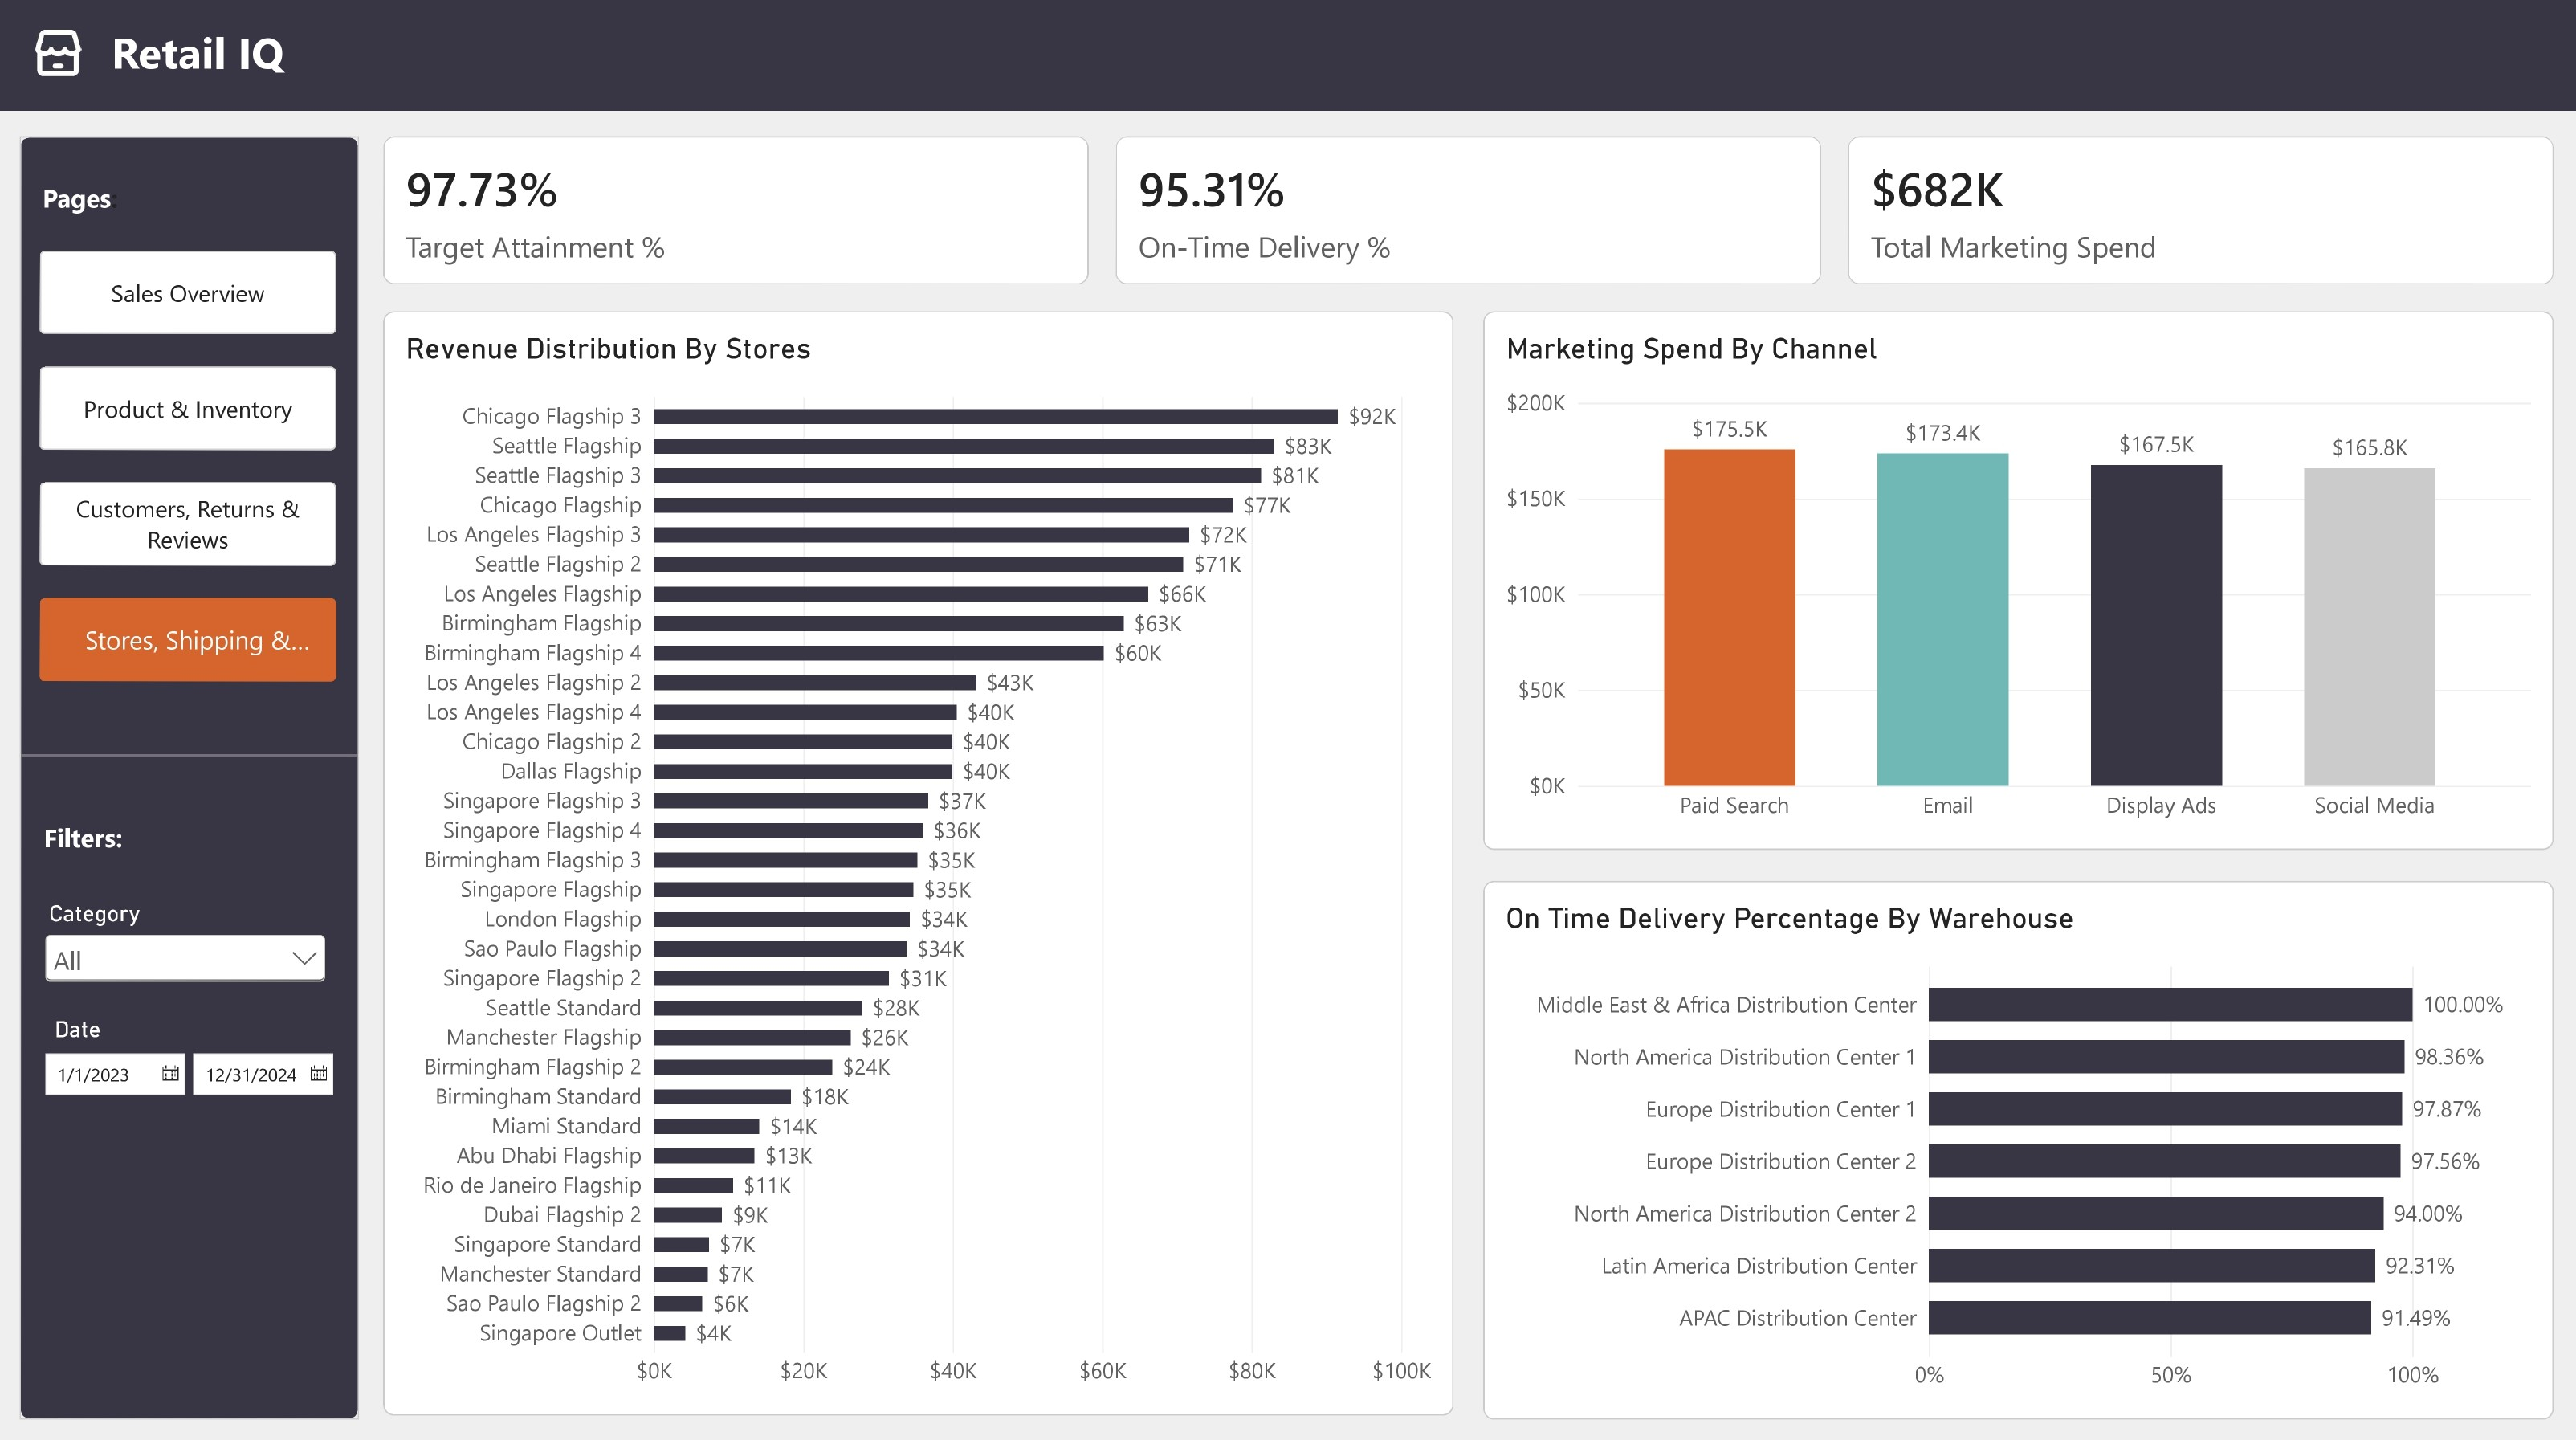

What the dashboard file says about the page in this screenshot:
{"tool":"powerbi","page":{"name":"Stores, Shipping & Marketing","canvas":[1920,1080],"ordinal":3},"visuals":[{"type":"shape","box":[0,0,1920.7,85.9],"z":0},{"type":"clusteredBarChart","title":"Revenue Distribution By Stores","fields":{"Category":["Dim_Store.StoreName"],"Y":["_Measures.Total Revenue"]},"box":[287.5,235,795,820],"z":1000},{"type":"shape","box":[17.5,105,252.5,952.5],"z":2000},{"type":"pageNavigator","box":[32.5,190,220,322.5],"z":3000},{"type":"textbox","box":[36,613,122,35],"z":5000},{"type":"slicer","fields":{"Values":["Dim_Product.Category"]},"box":[32.3,672.4,217.5,62.5],"z":6000},{"type":"textbox","box":[34.6,138.5,122.3,34.6],"z":7000},{"type":"shape","box":[17.7,540,252.3,50],"z":8000},{"type":"image","box":[23.1,26.2,46.9,33.8],"z":9000},{"type":"textbox","box":[86,20,478,62],"z":10000},{"type":"cardVisual","fields":{"Data":["_Measures.Target Attainment %","_Measures.On-Time Delivery %","_Measures.Total Marketing Spend"]},"box":[287.5,105,1612.5,110],"z":11000},{"type":"slicer","title":"Date","fields":{"Values":["Dim_Date.Date"]},"box":[29.2,780.9,236.7,95],"z":12000},{"type":"textbox","box":[44.2,757.6,85,23.3],"z":13000},{"type":"barChart","title":"On Time Delivery Percentage By Warehouse","fields":{"Category":["Dim_Warehouse.WarehouseName"],"Y":["_Measures.On-Time Delivery %"]},"box":[1105,657.5,795,400],"z":14000},{"type":"columnChart","title":"Marketing Spend By Channel","fields":{"Category":["Fact_MarketingSpend.Channel"],"Y":["_Measures.Total Marketing Spend"]},"box":[1105,235,795,400],"z":15000}]}

Visuals, with their boxes on the page's 1920x1080 design canvas (x1, y1, x2, y2). These are canvas units, not pixel positions in the 2576x1440 screenshot, which may show the page scaled, cropped or inside an application window:
shape: x1=0, y1=0, x2=1921, y2=86
"Revenue Distribution By Stores" clusteredBarChart: x1=288, y1=235, x2=1082, y2=1055
shape: x1=18, y1=105, x2=270, y2=1058
pageNavigator: x1=32, y1=190, x2=252, y2=512
textbox: x1=36, y1=613, x2=158, y2=648
slicer - Dim_Product.Category: x1=32, y1=672, x2=250, y2=735
textbox: x1=35, y1=138, x2=157, y2=173
shape: x1=18, y1=540, x2=270, y2=590
image: x1=23, y1=26, x2=70, y2=60
textbox: x1=86, y1=20, x2=564, y2=82
cardVisual - _Measures.Target Attainment % x _Measures.On-Time Delivery %: x1=288, y1=105, x2=1900, y2=215
"Date" slicer: x1=29, y1=781, x2=266, y2=876
textbox: x1=44, y1=758, x2=129, y2=781
"On Time Delivery Percentage By Warehouse" barChart: x1=1105, y1=658, x2=1900, y2=1058
"Marketing Spend By Channel" columnChart: x1=1105, y1=235, x2=1900, y2=635
